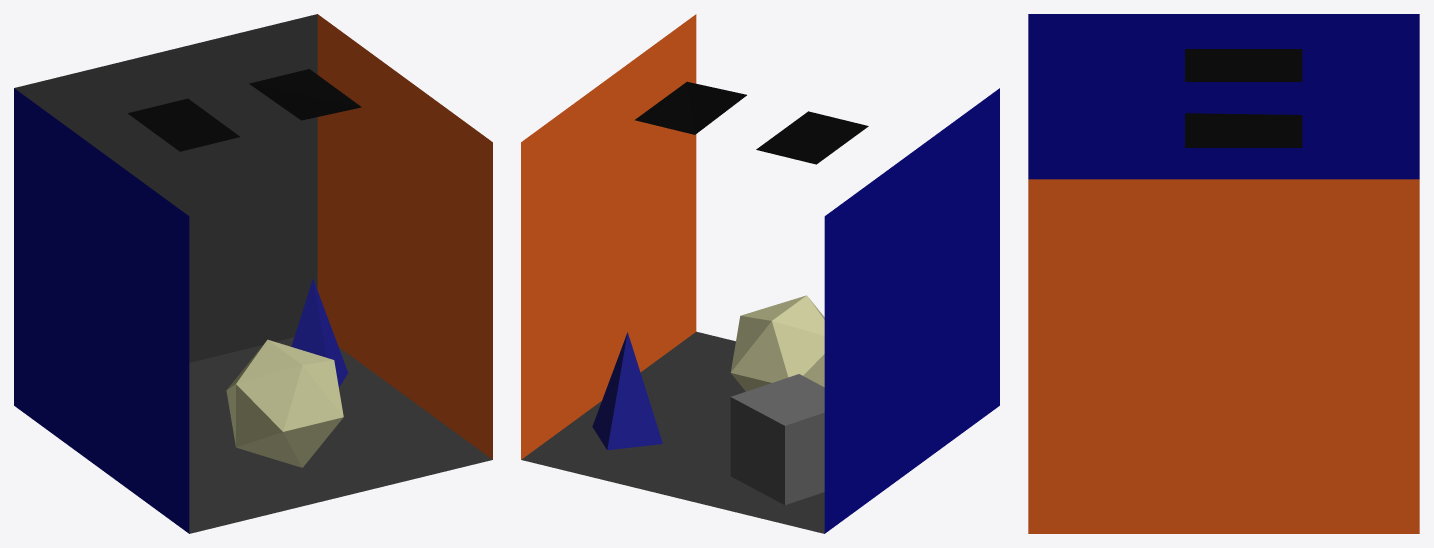
Rendered from cornell_box222.obj.
3 renders of one model, left to right at view 1: azimuth 30°, elevation 25°; view 2: azimuth 150°, elevation 25°; view 3: azimuth 270°, elevation 25°, orthographic. The views are drawn at different scales.
Size of the model in its own units: 1 by 1 by 1.
